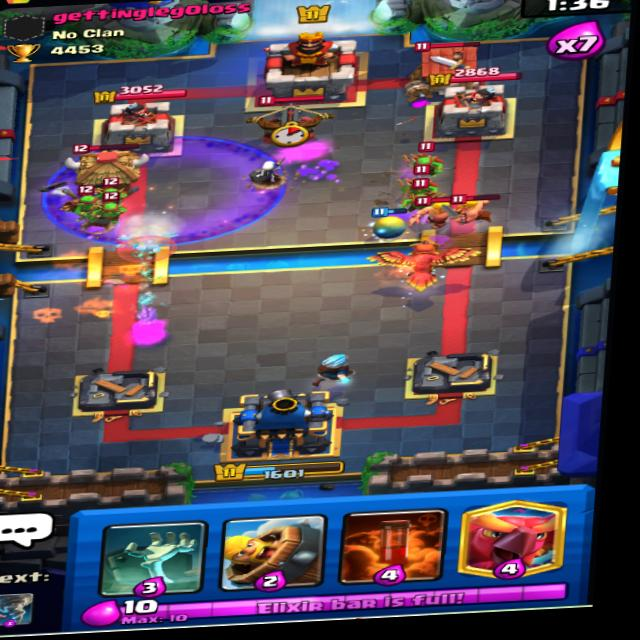barbarian: (409, 198, 461, 225), (456, 193, 500, 220)
barbarian-hut: (402, 36, 490, 94)
goblin-hut: (67, 141, 152, 195)
spear-goblin: (409, 142, 451, 175), (92, 197, 126, 227), (403, 176, 437, 200)
x-bow: (237, 88, 335, 149)
